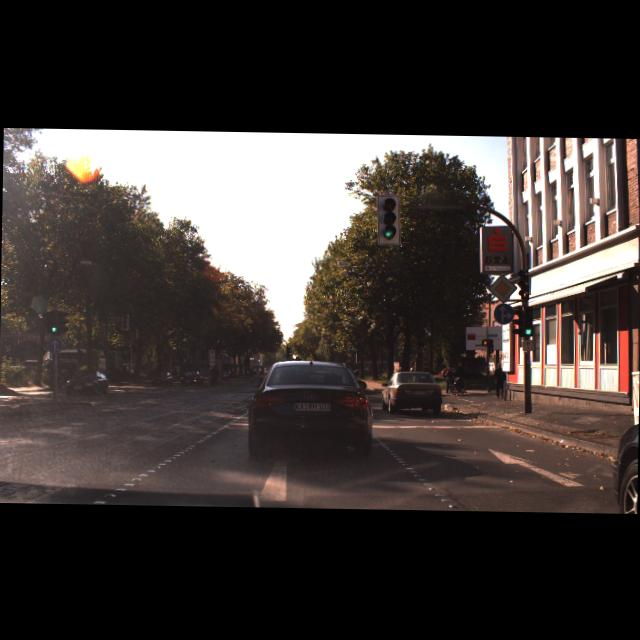mandatory: (492, 302, 514, 322), (46, 335, 61, 352)
other: (486, 272, 516, 302)
